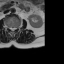CCS_stenosis: (12, 25, 13, 34)
LFS_normal: (15, 24, 18, 31)
LLS_normal: (13, 25, 15, 32)
RFS_normal: (8, 24, 10, 30)
RLS_normal: (10, 25, 12, 32)
